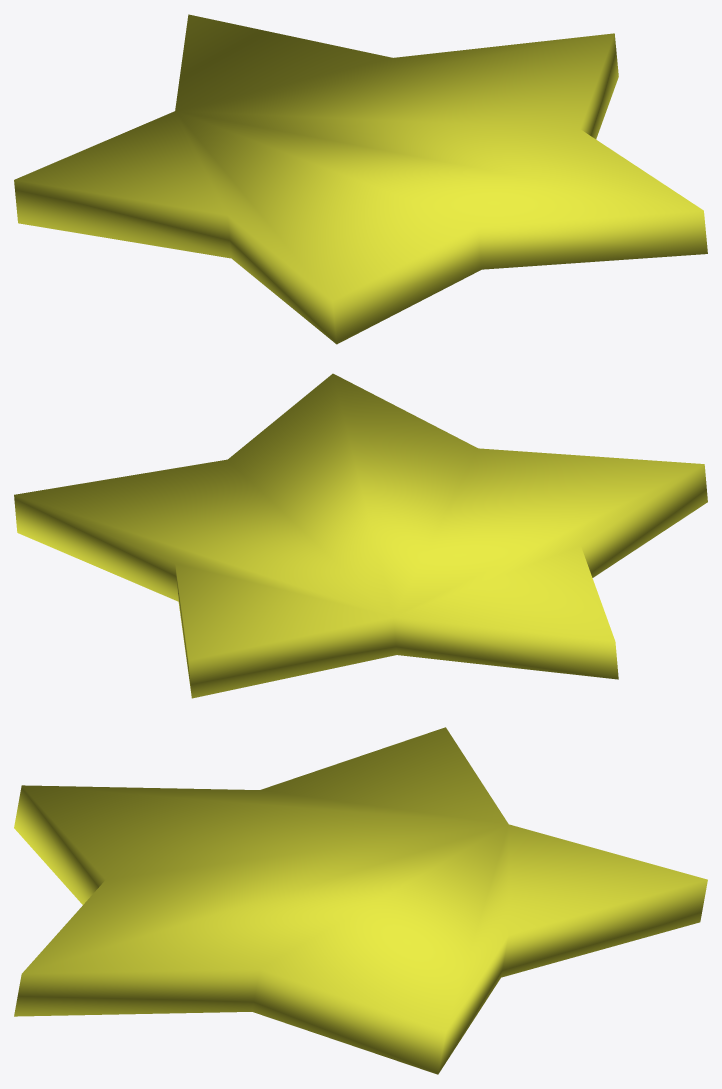
The model's file is star-3.fbx.
3 views of the same model, one above another, from view 1: azimuth 30°, elevation 25°; view 2: azimuth 150°, elevation 25°; view 3: azimuth 270°, elevation 25° (orthographic). The views are drawn at different scales.
Parts seen in each view (by area): view 1: 圆环; view 2: 圆环; view 3: 圆环.
Boxes of the visible parts, x1,y1,x2,y2 form: 圆环: [14, 14, 707, 344]; 圆环: [14, 373, 707, 698]; 圆环: [14, 727, 707, 1074].
Size of the model in its own units: 190 by 12.34 by 183.
